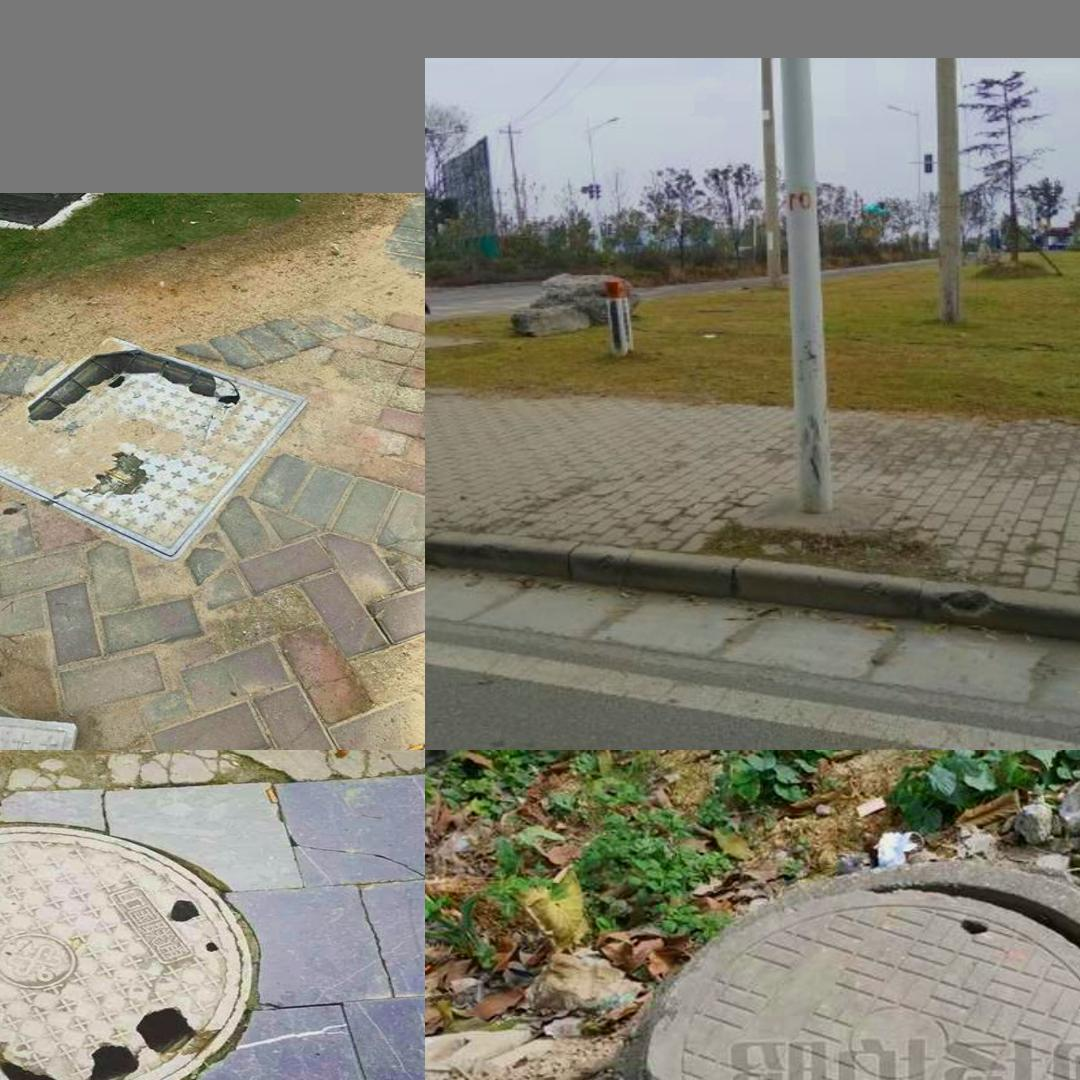broke: (593, 846, 1080, 1080), (0, 323, 314, 570), (0, 826, 253, 1080)
